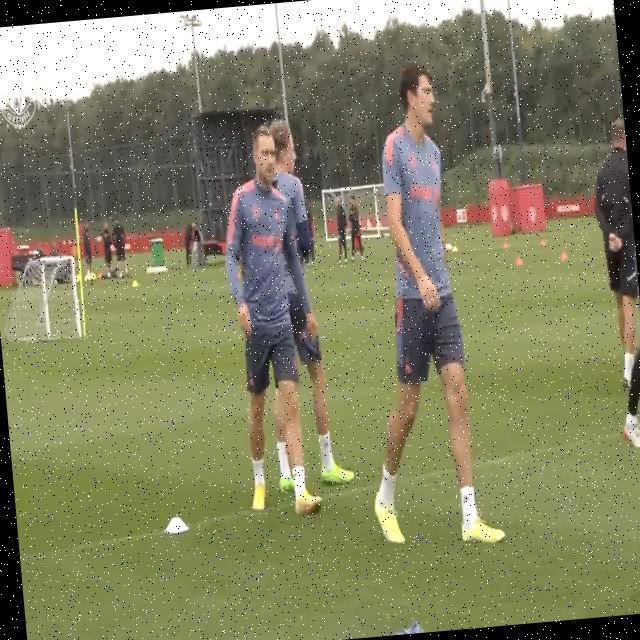Adidas: (402, 361, 412, 376), (462, 490, 471, 503)
